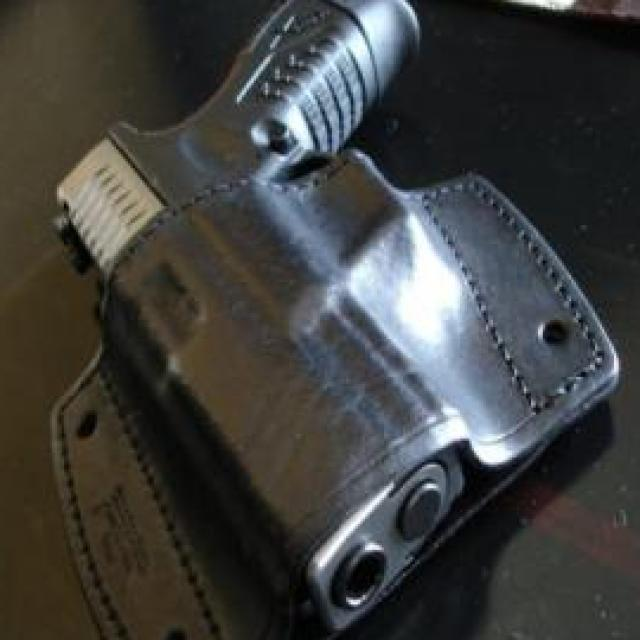pistol: (54, 0, 472, 631)
